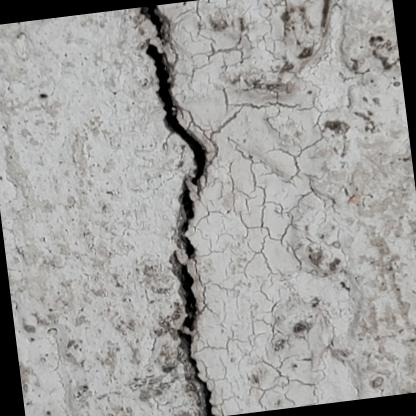crack: (144, 38, 206, 198), (178, 328, 213, 416), (166, 251, 194, 331), (173, 176, 192, 257), (137, 5, 164, 43)
